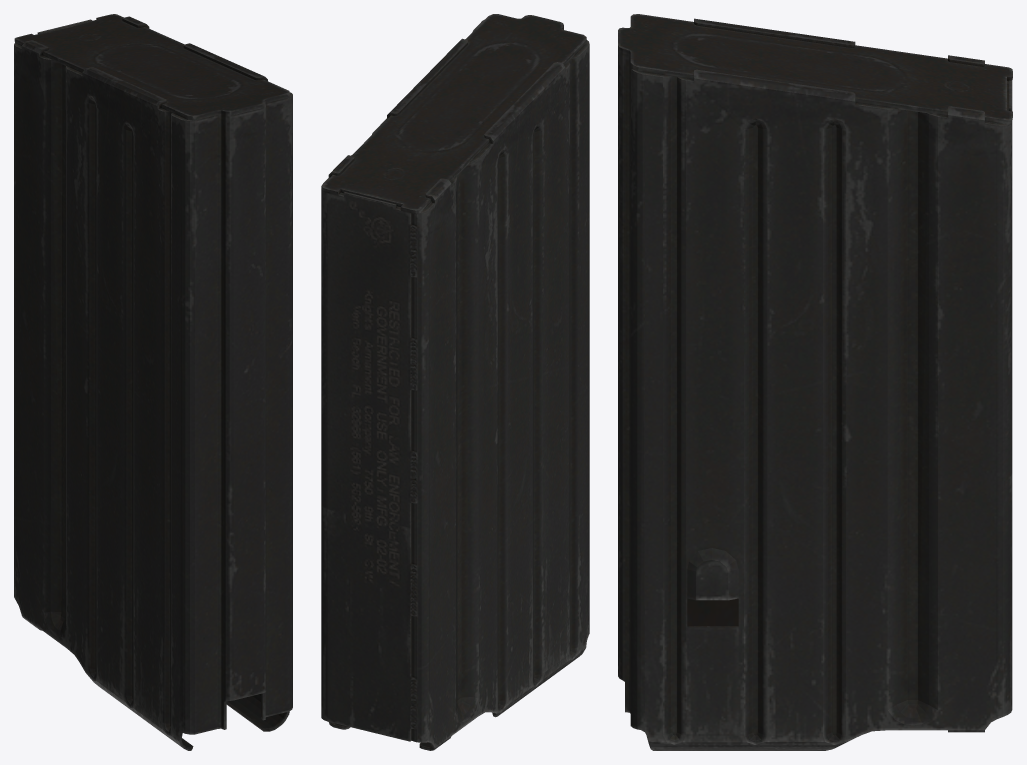
3 renders of one model, left to right at view 1: azimuth 30°, elevation 25°; view 2: azimuth 150°, elevation 25°; view 3: azimuth 270°, elevation 25°, orthographic. The views are drawn at different scales.
Visible parts, largest first — view 1: TW_5df8f541c41b2312ea3335e3_PZ_Import; view 2: TW_5df8f541c41b2312ea3335e3_PZ_Import; view 3: TW_5df8f541c41b2312ea3335e3_PZ_Import.
Part boxes in pixels (x1,y1,x2,y2): TW_5df8f541c41b2312ea3335e3_PZ_Import: [14, 14, 292, 750]; TW_5df8f541c41b2312ea3335e3_PZ_Import: [321, 14, 589, 750]; TW_5df8f541c41b2312ea3335e3_PZ_Import: [618, 14, 1012, 750].
Bounding box in the file's own units: 0.0155 × 0.0435 × 0.0842.
1 material, 1 textured.
